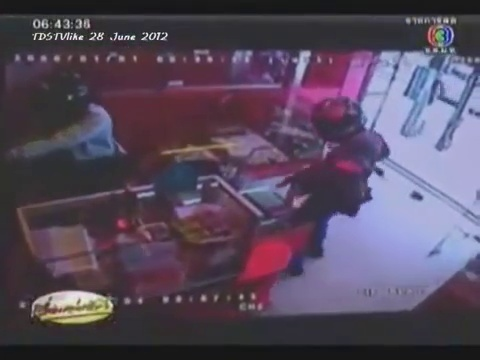helmet: (31, 70, 92, 121), (308, 93, 368, 140)
